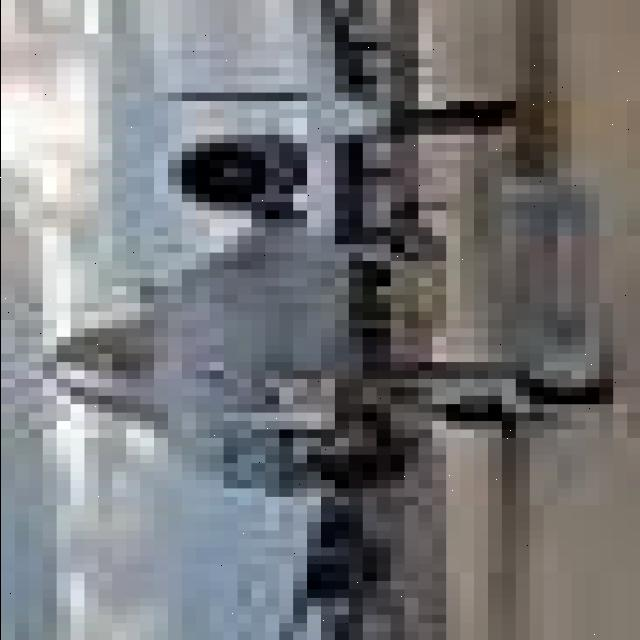A10: (22, 25, 640, 629)
